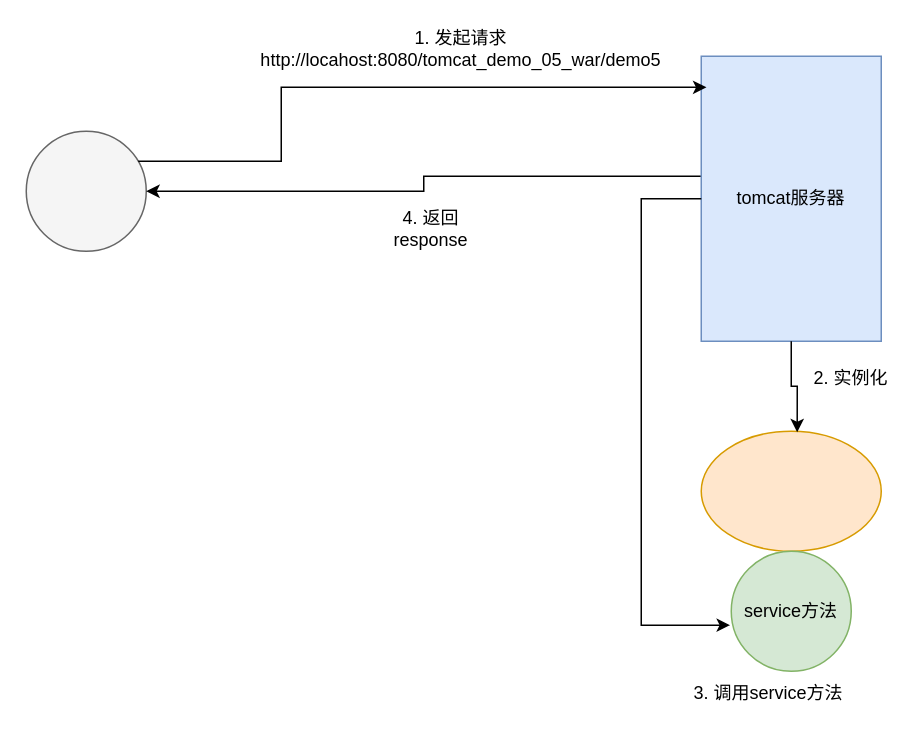
The diagram is 923 pixels wide and 741 high, and some of its shapes have lost their labels. Each missing label, with the centre of its shape:
"Servlet对象" goes at point (790, 490).
"客户端 浏览器" goes at point (85, 190).
